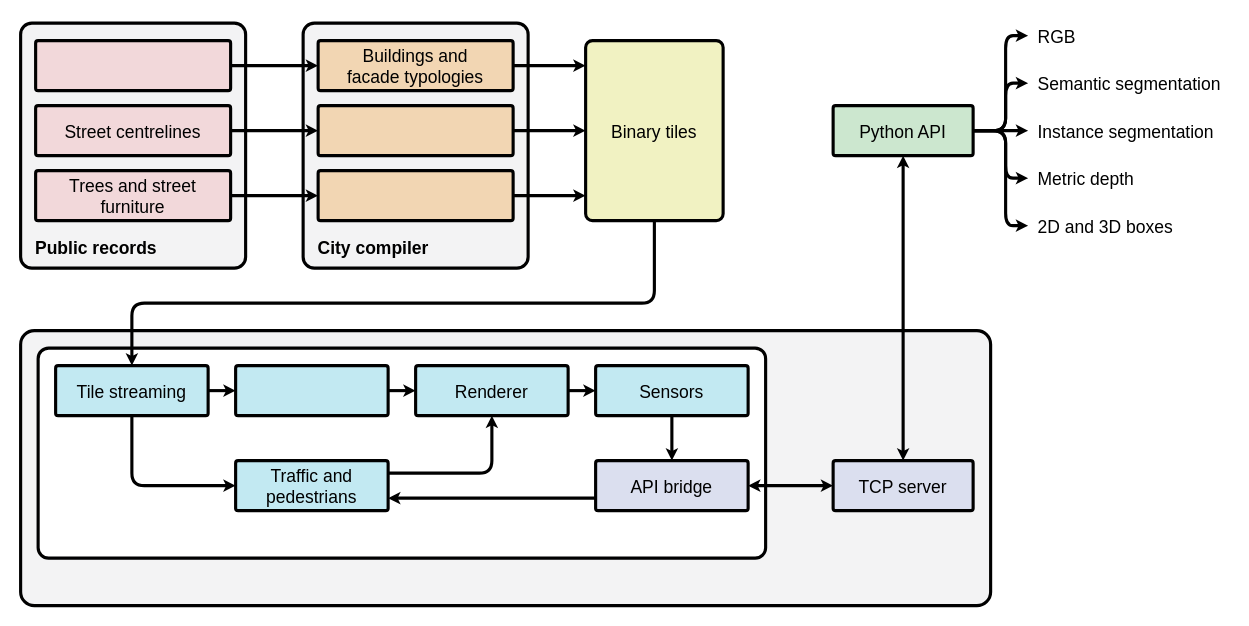
Some shapes in this 1249 by 626 pixel diagram are drawn without their labels. The shapes that lost their labels are listed below. From the top down, each one's box as (x1, y1, x2, y2) in pixels, then its label:
(34, 38, 232, 92): Building footprints and tax lots
(316, 104, 514, 157): Streets and lane graph
(316, 168, 514, 222): Furniture placement
(234, 364, 389, 417): Facade dressing
(36, 346, 767, 559): Client (three.js, WebGL2)
(18, 328, 992, 607): Simulation server (Electron)
